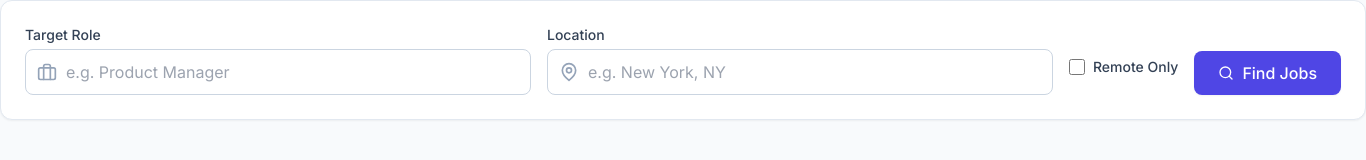
Test: JobDiscovery SearchForm › validates minimum length inputs
Type "A" into the field labelled "Target Role". click: coordinates (278, 72)
box: [25,49,531,95]
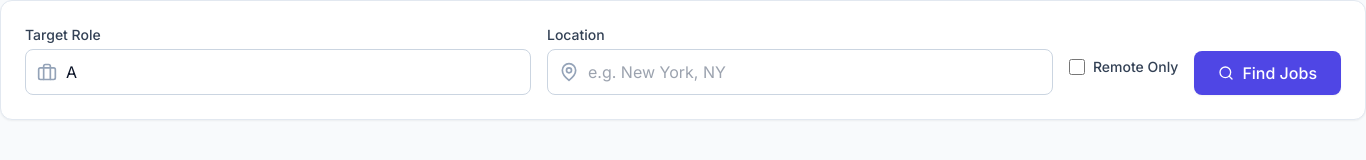
Click the button "Find Jobs". click: coordinates (1268, 73)
box: [1194,51,1341,95]
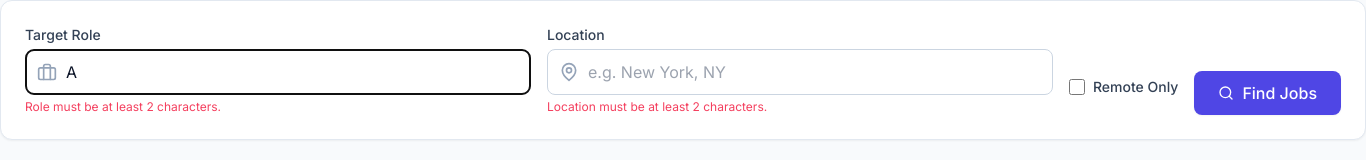
expect the text "Role must be at least 2 characters." is shown: met, box [25,99,221,114]
